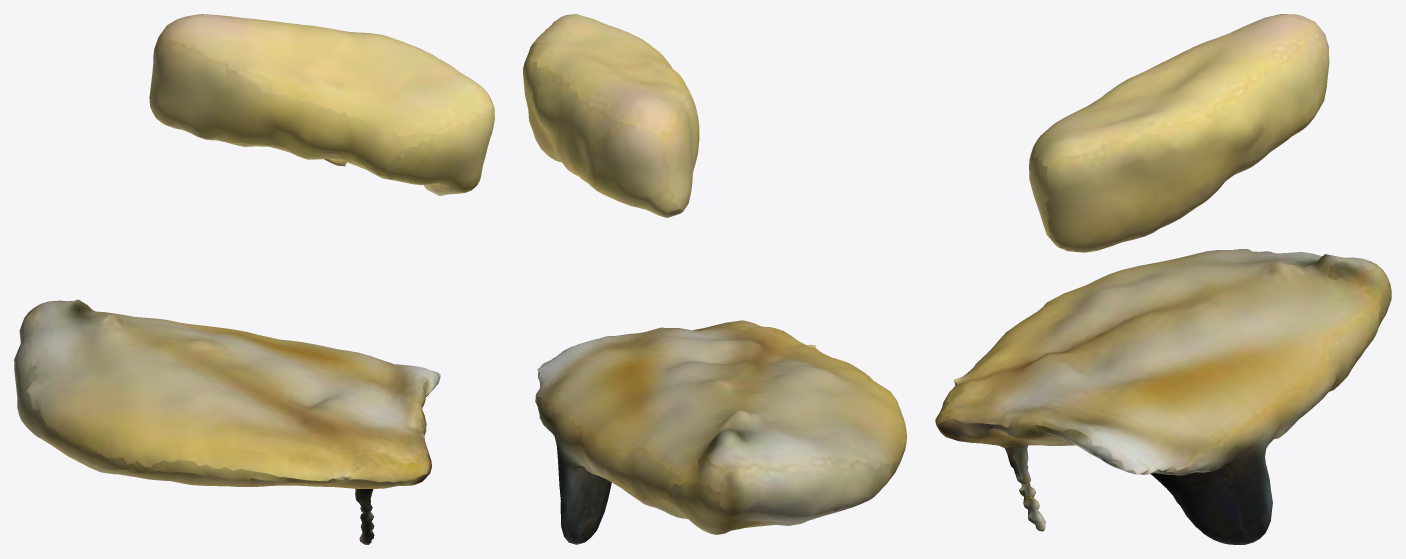
Rendered from 15_chair.glb.
The picture shows the model from 3 angles, left to right: view 1: azimuth 30°, elevation 25°; view 2: azimuth 150°, elevation 25°; view 3: azimuth 270°, elevation 25°; orthographic projection. The views are drawn at different scales.
Visible parts, largest first — view 1: 15_chair; view 2: 15_chair; view 3: 15_chair.
Boxes of the visible parts, bbox=[...] form: 15_chair: bbox=[14, 14, 494, 544]; 15_chair: bbox=[523, 14, 906, 544]; 15_chair: bbox=[935, 14, 1391, 544].
Bounding box in the file's own units: 0.6991 × 0.793 × 0.6746.
1 material, 1 textured.
